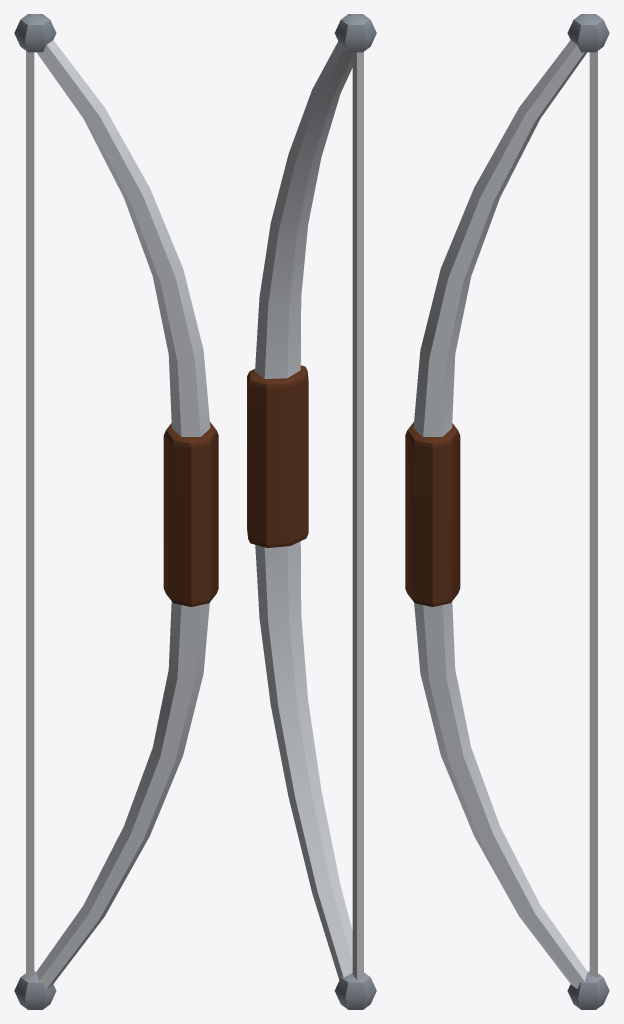
File: IronBow.fbx
3 renders of one model, left to right at view 1: azimuth 90°, elevation 25°; view 2: azimuth 210°, elevation 25°; view 3: azimuth 270°, elevation 25°, orthographic.
Visible parts, largest first — view 1: IronBow; view 2: IronBow; view 3: IronBow.
Part boxes in pixels (<box>): IronBow: <box>14,14,218,1009</box>; IronBow: <box>247,14,376,1009</box>; IronBow: <box>405,14,609,1009</box>.
Size of the model in its own units: 0.26 by 4.16 by 0.774.
1 material, 1 textured.
